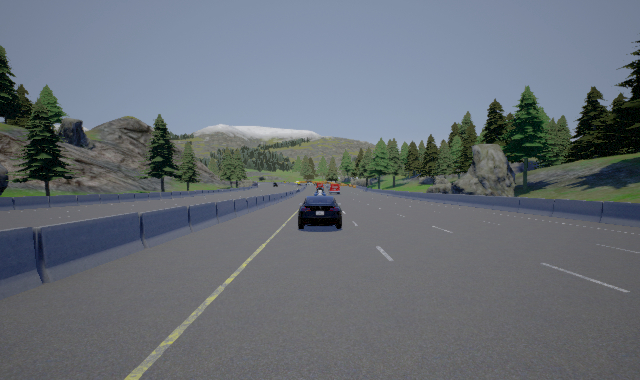vehicle: (297, 194, 342, 229)
